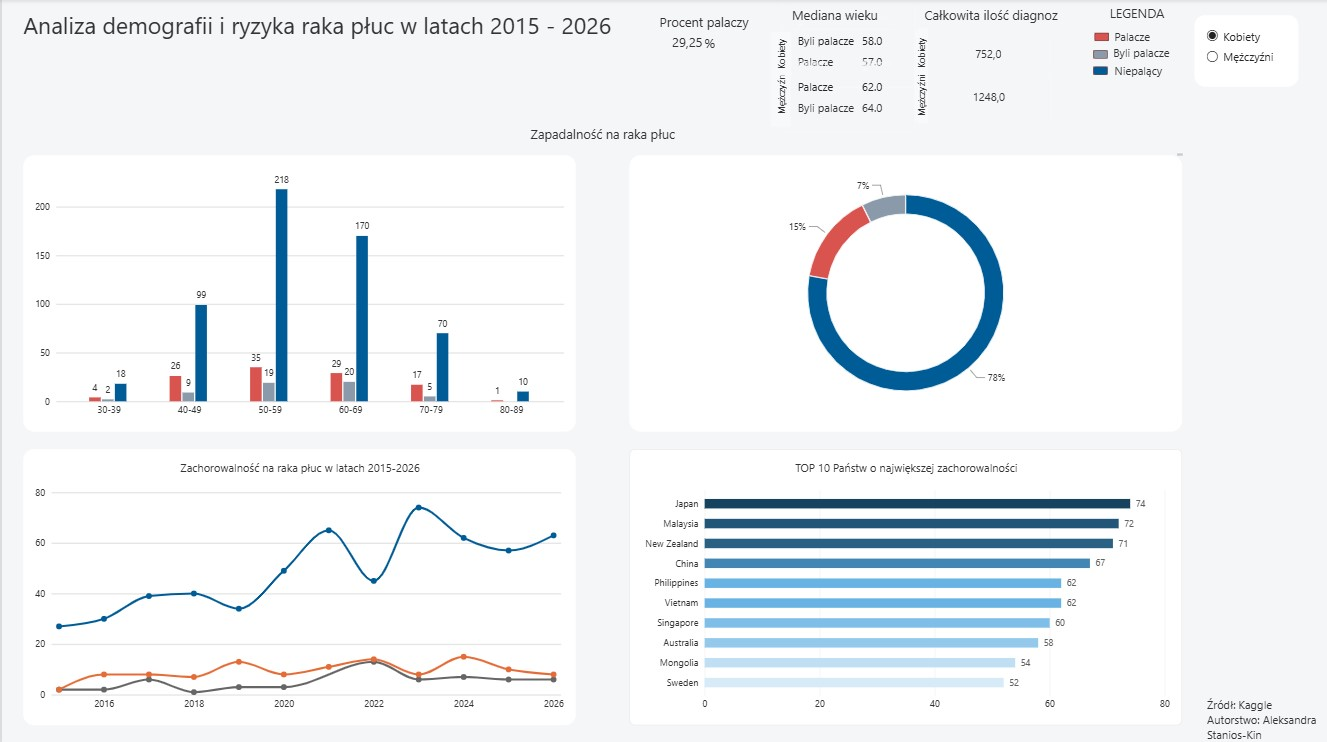

Layout of this report page (visuals, bound fields, positions):
{"tool":"powerbi","page":{"name":"Dashboard","canvas":[1920,1080],"ordinal":0},"visuals":[{"type":"textbox","title":"Analiza demografii i ryzyka raka płuc w latach 2015 - 2026","box":[30.8,14.5,877.7,54.3],"z":0},{"type":"tableEx","title":"Mediana wieku diagnozy","fields":{"Values":["mediana.Column1","mediana.Column3"]},"box":[1128.8,0,192.5,128.8],"z":1000},{"type":"tableEx","title":"Mediana wieku diagnozy - mężczyźni","fields":{"Values":["mediana.Column1","mediana.Column3"]},"box":[1128.8,68.8,192.5,125],"z":2000},{"type":"cardVisual","fields":{"Data":["płuca all.całkowita ilość diagnoz"],"Rows":["płuca all.gender"]},"box":[1321.2,41.2,196.7,73.3],"z":3000},{"type":"textbox","box":[14,632.5,317,161],"z":4000},{"type":"shape","box":[1113.8,88.8,28.8,96.2],"z":5000},{"type":"shape","box":[1112.5,47.5,30,63.8],"z":6000},{"type":"textbox","title":"Mediana wieku diagnozy","box":[1143.2,10,124.9,21.7],"z":7000},{"type":"textbox","title":"Całkowita ilość diagnoz","box":[1335,10,222.5,25],"z":8000},{"type":"cardVisual","fields":{"Data":["płuca all.całkowita ilość diagnoz"],"Rows":["płuca all.gender"]},"box":[1321.2,98.8,198.8,81.2],"z":9000},{"type":"cardVisual","fields":{"Data":["płuca all.Procent palaczy"]},"box":[960,35,76.2,53.8],"z":10000},{"type":"textbox","title":"Źródł: Kaggle","box":[1744,1010,136,22],"z":11000},{"type":"clusteredColumnChart","title":"Zapadalność na raka płuc","fields":{"Category":["Analiza czy więcej mężczyzn czy kobiet zachorowało.age_group"],"Series":["Analiza czy więcej mężczyzn czy kobiet zachorowało.smoking_status"],"Y":["Sum(Analiza czy więcej mężczyzn czy kobiet zachorowało.total_patient)"]},"box":[30,226,800,400],"z":12000},{"type":"donutChart","fields":{"Category":["Analiza czy więcej mężczyzn czy kobiet zachorowało.smoking_status"],"Y":["Sum(Analiza czy więcej mężczyzn czy kobiet zachorowało.total_patient)"]},"box":[908,226,800,400],"z":13000},{"type":"textbox","title":"Zapadalność na raka płuc","box":[30,182,1678,44],"z":14000},{"type":"shape","box":[1581.4,49.1,21.1,12.2],"z":15000},{"type":"textbox","title":"Palacze","box":[1610,42.9,168.6,34.3],"z":17000},{"type":"shape","box":[1580.5,73.6,21.1,12.2],"z":18000},{"type":"textbox","title":"Byli palacze","box":[1609.5,67.2,167.8,34.4],"z":19000},{"type":"shape","box":[1580.4,98,21.1,12.2],"z":20000},{"type":"textbox","title":"Niepalący","box":[1610,91.7,167.1,34.3],"z":21000},{"type":"textbox","title":"LEGENDA","box":[1581.4,7.1,123,34],"z":22000},{"type":"lineChart","title":"Zachorowalność na raka płuc w latach 2015-2026 ","fields":{"Category":["zachorowalnosc 2015 2026.diagnosis_year"],"Series":["zachorowalnosc 2015 2026.smoking_status"],"Y":["Sum(zachorowalnosc 2015 2026.count)"]},"box":[30,652,800,400],"z":23000},{"type":"listSlicer","fields":{"Values":["Słownik_Plec.Płeć Słownik"]},"box":[1727.1,22.9,150,102.9],"z":24000},{"type":"clusteredBarChart","title":"TOP 10 Państw o największej zachorowalności","fields":{"Category":["płuca all.country"],"Y":["płuca all.całkowita ilość diagnoz"]},"box":[908,652,800,400],"z":25000},{"type":"textbox","title":"%","box":[1016.2,50,40,40],"z":26000},{"type":"textbox","title":"Procent palaczy","box":[951.2,20,135,40],"z":26001},{"type":"textbox","title":"Autorstwo: Aleksandra Stanios-Kin","box":[1744,1032,176,42],"z":26002}]}

Visuals, with their boxes in screenshot pixels (x1, y1, x2, y2), scaled from the page's 1920x1080 canvas onto the 1327x742 screenshot:
"Analiza demografii i ryzyka raka płuc w latach 2015 - 2026" textbox: bbox=[21, 10, 628, 47]
"Mediana wieku diagnozy" tableEx: bbox=[780, 0, 913, 88]
"Mediana wieku diagnozy - mężczyźni" tableEx: bbox=[780, 47, 913, 133]
cardVisual - płuca all.całkowita ilość diagnoz x płuca all.gender: bbox=[913, 28, 1049, 79]
textbox: bbox=[10, 435, 229, 545]
shape: bbox=[770, 61, 790, 127]
shape: bbox=[769, 33, 790, 76]
"Mediana wieku diagnozy" textbox: bbox=[790, 7, 876, 22]
"Całkowita ilość diagnoz" textbox: bbox=[923, 7, 1076, 24]
cardVisual - płuca all.całkowita ilość diagnoz x płuca all.gender: bbox=[913, 68, 1051, 124]
cardVisual - płuca all.Procent palaczy: bbox=[664, 24, 716, 61]
"Źródł: Kaggle" textbox: bbox=[1205, 694, 1299, 709]
"Zapadalność na raka płuc" clusteredColumnChart: bbox=[21, 155, 574, 430]
donutChart - Analiza czy więcej mężczyzn czy kobiet zachorowało.smoking_status x Sum(Analiza czy więcej mężczyzn czy kobiet zachorowało.total_patient): bbox=[628, 155, 1180, 430]
"Zapadalność na raka płuc" textbox: bbox=[21, 125, 1180, 155]
shape: bbox=[1093, 34, 1108, 42]
"Palacze" textbox: bbox=[1113, 29, 1229, 53]
shape: bbox=[1092, 51, 1107, 59]
"Byli palacze" textbox: bbox=[1112, 46, 1228, 70]
shape: bbox=[1092, 67, 1107, 76]
"Niepalący" textbox: bbox=[1113, 63, 1228, 87]
"LEGENDA" textbox: bbox=[1093, 5, 1178, 28]
"Zachorowalność na raka płuc w latach 2015-2026 " lineChart: bbox=[21, 448, 574, 723]
listSlicer - Słownik_Plec.Płeć Słownik: bbox=[1194, 16, 1297, 86]
"TOP 10 Państw o największej zachorowalności" clusteredBarChart: bbox=[628, 448, 1180, 723]
"%" textbox: bbox=[702, 34, 730, 62]
"Procent palaczy" textbox: bbox=[657, 14, 751, 41]
"Autorstwo: Aleksandra Stanios-Kin" textbox: bbox=[1205, 709, 1326, 738]
